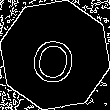O_N: (28, 25, 82, 85)
